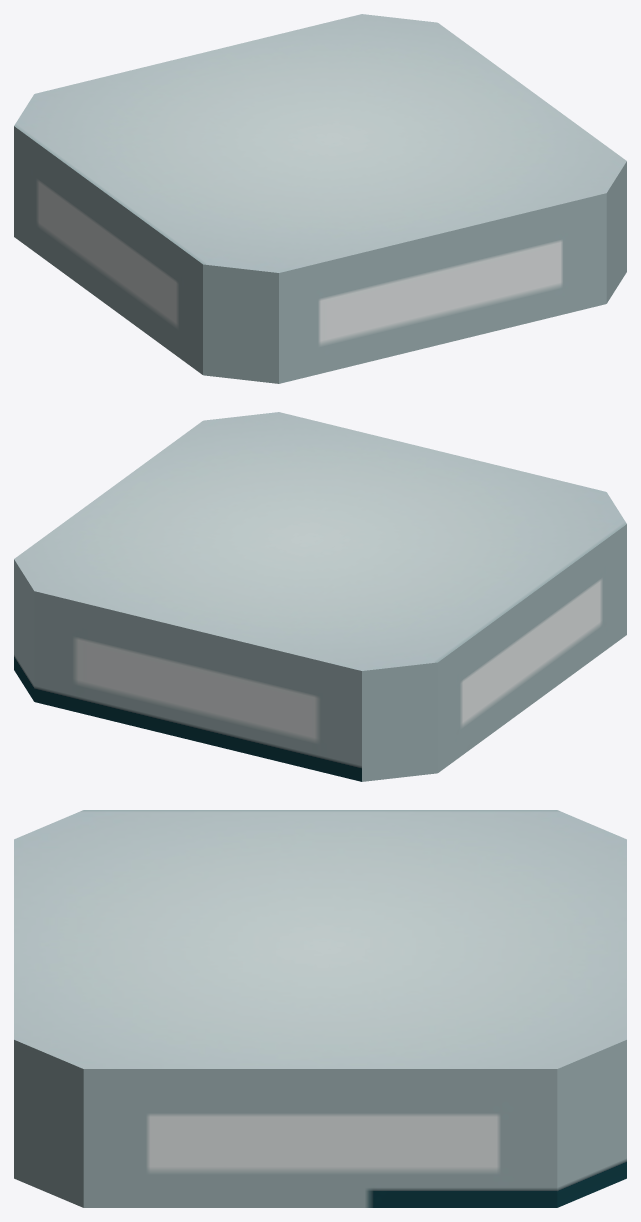
Rendered from DiBan01.FBX.
The picture shows the model from 3 angles, top to bottom: view 1: azimuth 30°, elevation 25°; view 2: azimuth 150°, elevation 25°; view 3: azimuth 270°, elevation 25°; orthographic projection. The views are drawn at different scales.
Parts seen in each view (by area): view 1: DiBan01; view 2: DiBan01; view 3: DiBan01.
Part boxes in pixels (<box>): DiBan01: <box>14,14,626,383</box>; DiBan01: <box>14,412,626,781</box>; DiBan01: <box>14,810,626,1207</box>.
Bounding box in the file's own units: 15.75 × 3.94 × 15.75.
